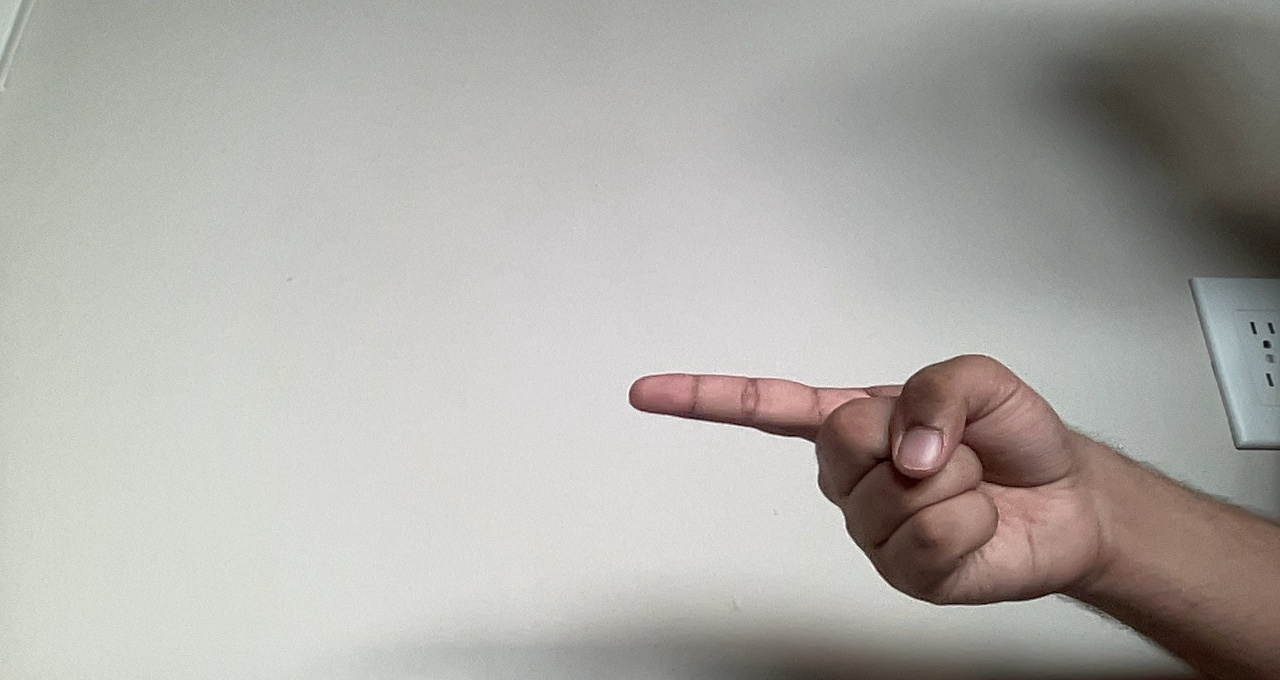fingerright: (616, 354, 954, 609)
